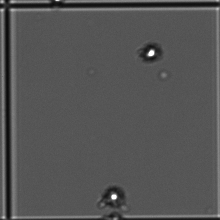Living Cell: (97, 184, 129, 208), (136, 40, 167, 63)
